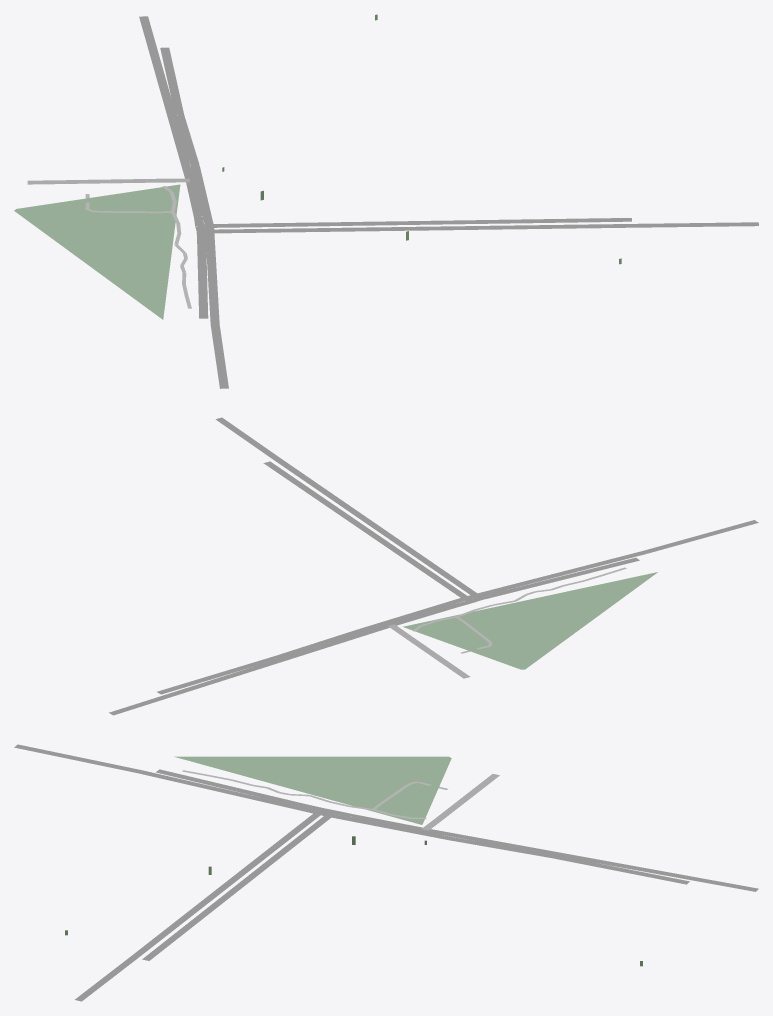
3 renders of one model, top to bottom at view 1: azimuth 30°, elevation 25°; view 2: azimuth 150°, elevation 25°; view 3: azimuth 270°, elevation 25°, orthographic. The views are drawn at different scales.
Bounding box in the file's own units: 510 × 8.52 × 622.
